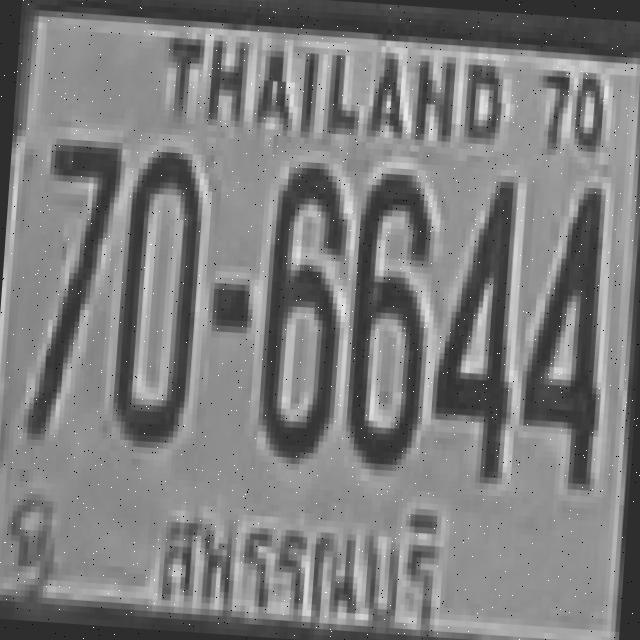0: (106, 143, 202, 444)
4: (515, 178, 611, 484), (427, 172, 518, 478)
6: (251, 159, 346, 460), (341, 166, 432, 466)
7: (27, 132, 118, 432)
SuphanBuri: (141, 490, 460, 640)
